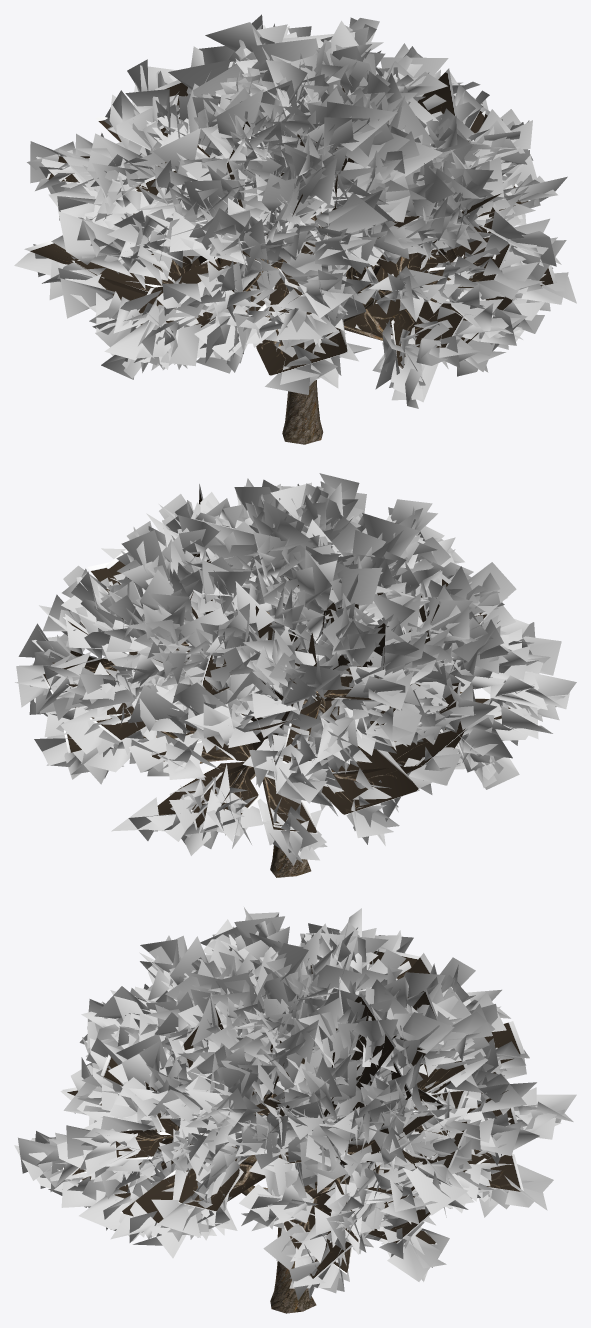
The model's file is Tree02.fbx.
3 renders of one model, top to bottom at view 1: azimuth 30°, elevation 25°; view 2: azimuth 150°, elevation 25°; view 3: azimuth 270°, elevation 25°, orthographic. The views are drawn at different scales.
Visible parts, largest first — view 1: Leaf_6, Bark_9; view 2: Leaf_6, Bark_9; view 3: Leaf_6, Bark_9.
Part boxes in pixels (left/top/right/bottom): Leaf_6: left=14, top=14, right=576, bottom=408; Bark_9: left=255, top=218, right=436, bottom=444; Leaf_6: left=15, top=473, right=576, bottom=866; Bark_9: left=245, top=666, right=462, bottom=877; Leaf_6: left=14, top=907, right=576, bottom=1300; Bark_9: left=163, top=1090, right=335, bottom=1313.
Size of the model in its own units: 8455 by 6475 by 8751.
